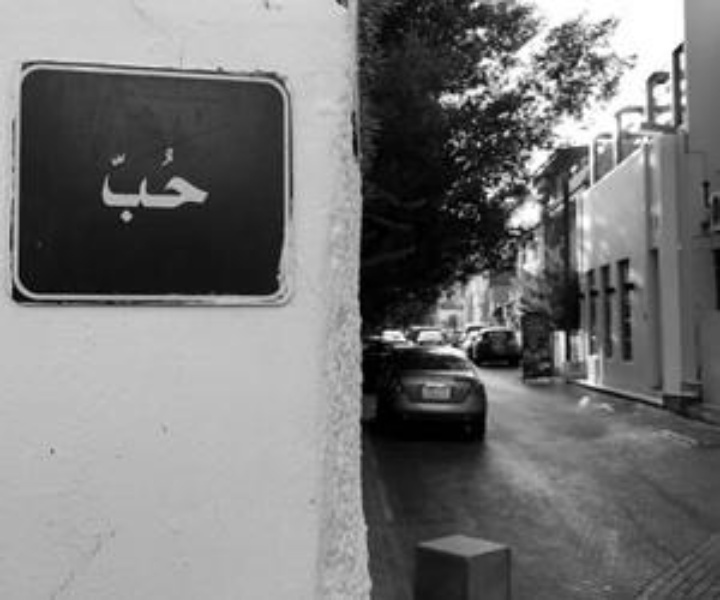text: (193, 145, 209, 224), (113, 145, 128, 224), (129, 145, 144, 224), (145, 145, 160, 224), (161, 145, 176, 224), (177, 145, 192, 224), (99, 145, 112, 224)
